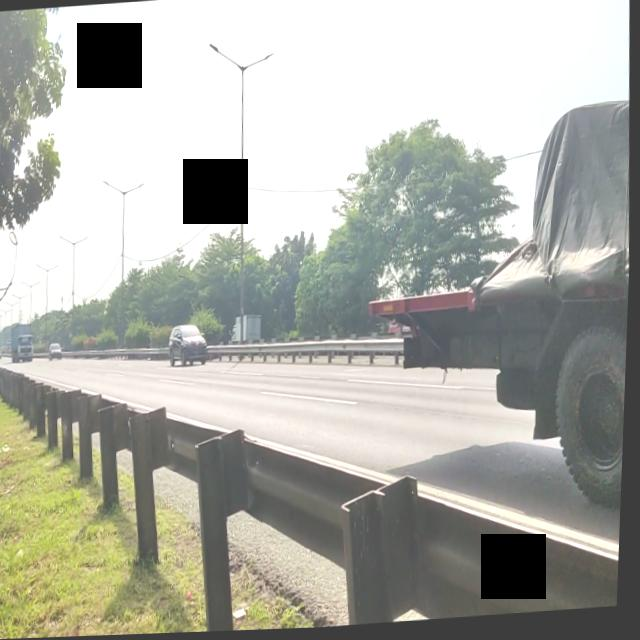Golongan I: (166, 318, 212, 376)
